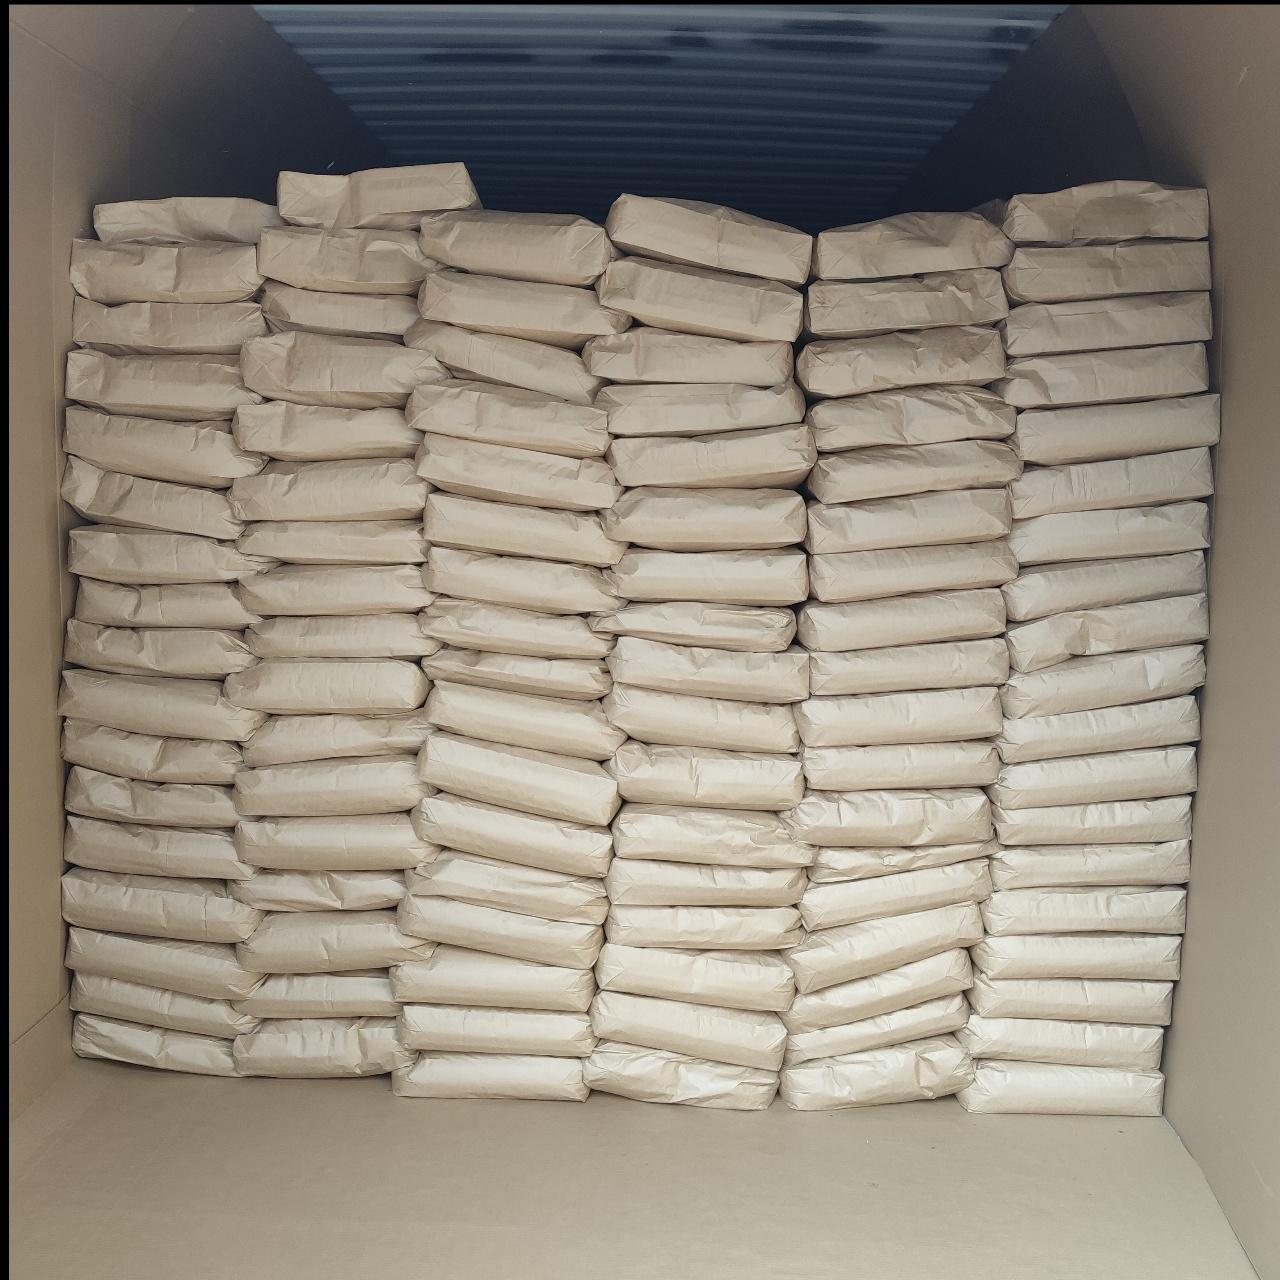sack: (418, 731, 620, 825), (605, 195, 809, 285), (782, 903, 982, 993), (597, 256, 802, 340), (411, 794, 612, 878), (406, 319, 602, 404), (63, 406, 268, 486), (779, 948, 972, 1034), (418, 270, 629, 347), (425, 680, 626, 760), (241, 331, 448, 408), (416, 433, 621, 510), (406, 379, 610, 456), (592, 990, 787, 1071), (1008, 594, 1207, 672), (63, 455, 243, 540), (399, 893, 602, 968), (1001, 645, 1206, 719), (423, 492, 627, 566), (62, 869, 265, 942), (976, 181, 1208, 245), (796, 326, 1005, 397), (1010, 447, 1212, 520), (59, 669, 266, 741), (779, 1034, 974, 1110), (1013, 393, 1219, 464), (406, 850, 608, 922), (420, 211, 617, 285), (1002, 551, 1206, 621), (806, 384, 1016, 452), (998, 342, 1208, 409), (805, 268, 1008, 338), (67, 927, 263, 999), (602, 681, 798, 753), (812, 212, 1014, 281), (999, 291, 1211, 356), (995, 695, 1199, 763), (604, 741, 804, 810), (390, 945, 595, 1012), (595, 942, 794, 1012), (809, 537, 1017, 602), (422, 547, 625, 614), (275, 163, 482, 229), (804, 489, 1010, 554), (66, 350, 261, 420), (799, 859, 990, 930), (610, 803, 813, 869), (808, 441, 1022, 503), (606, 636, 809, 702), (1008, 501, 1208, 566), (988, 745, 1196, 809), (583, 1042, 778, 1109), (601, 486, 806, 550), (607, 424, 816, 486), (797, 588, 1005, 651), (1002, 240, 1210, 302), (70, 971, 259, 1039), (787, 995, 969, 1064), (583, 326, 792, 386), (794, 686, 1002, 745), (64, 815, 258, 879), (237, 910, 433, 973), (229, 458, 428, 520), (258, 227, 442, 294), (232, 755, 434, 816), (594, 379, 805, 436), (781, 789, 990, 846), (70, 241, 263, 304), (62, 719, 244, 784), (418, 597, 613, 658), (68, 526, 278, 583), (956, 1060, 1163, 1116), (64, 618, 257, 678), (234, 813, 438, 870), (73, 295, 268, 354), (809, 638, 1008, 695), (224, 659, 430, 714), (604, 550, 808, 605), (66, 765, 241, 829), (956, 1016, 1163, 1070), (969, 969, 1170, 1024), (233, 401, 420, 459), (233, 1017, 415, 1077), (241, 710, 433, 767), (72, 1013, 240, 1076), (234, 564, 434, 617), (605, 855, 808, 905), (587, 602, 795, 652), (397, 1005, 594, 1056), (981, 886, 1186, 935), (801, 741, 1000, 791), (990, 839, 1189, 890), (992, 796, 1190, 845), (422, 648, 611, 700), (76, 577, 259, 629), (971, 933, 1179, 979), (392, 1053, 588, 1101), (94, 197, 281, 245), (263, 280, 418, 338), (607, 905, 802, 949), (244, 614, 441, 658), (234, 520, 428, 563), (809, 840, 998, 883), (232, 972, 399, 1017), (227, 871, 406, 910)
